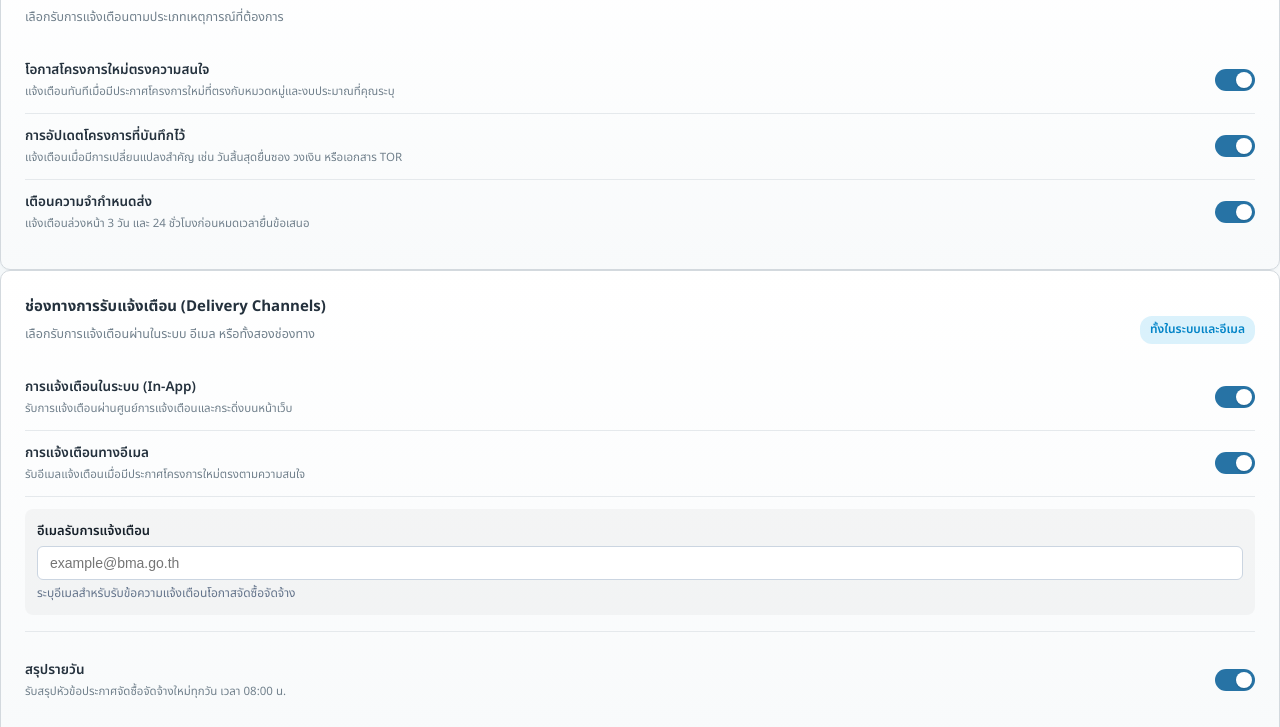
NotificationPreferencesPanel Component › renders and allows interacting with In-App toggle, custom keywords, and agencies (UC-6)
Click the checkbox with id "toggleInAppNotif".
click(1235, 397)  # box [1215,386,1255,408]
(page scrolled)
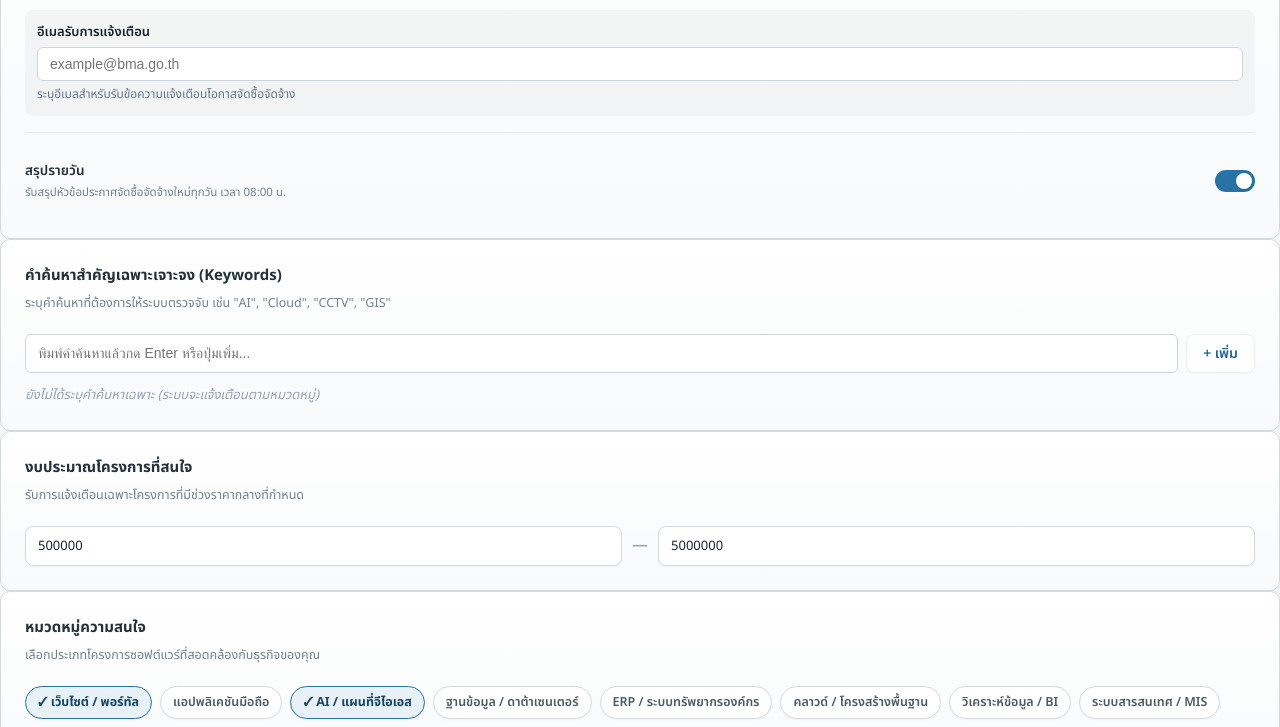
expect the button with id "addKeywordBtn" is shown: met, box [1186,334,1255,373]
Type "Smart City" into the field with id "inputKeyword".
click(602, 353); type("Smart City")  # box [25,334,1178,373]
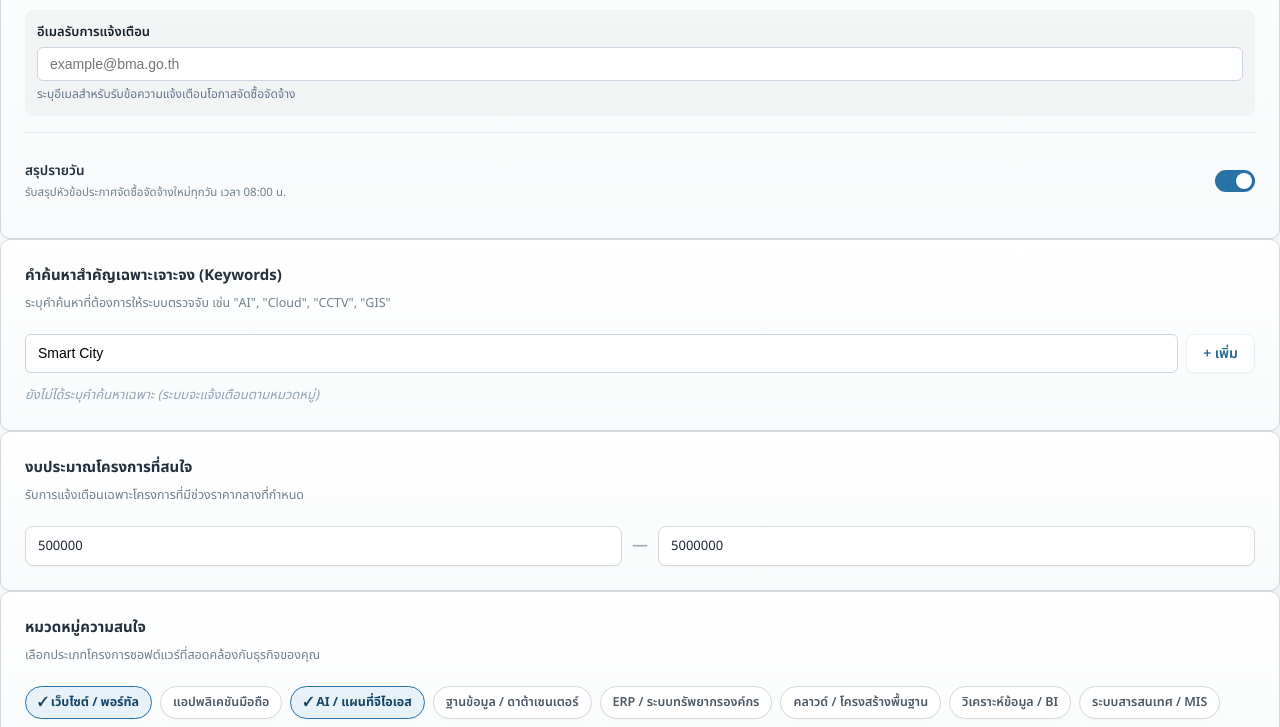
Click the button with id "addKeywordBtn".
click(1221, 353)  # box [1186,334,1255,373]
(page scrolled)
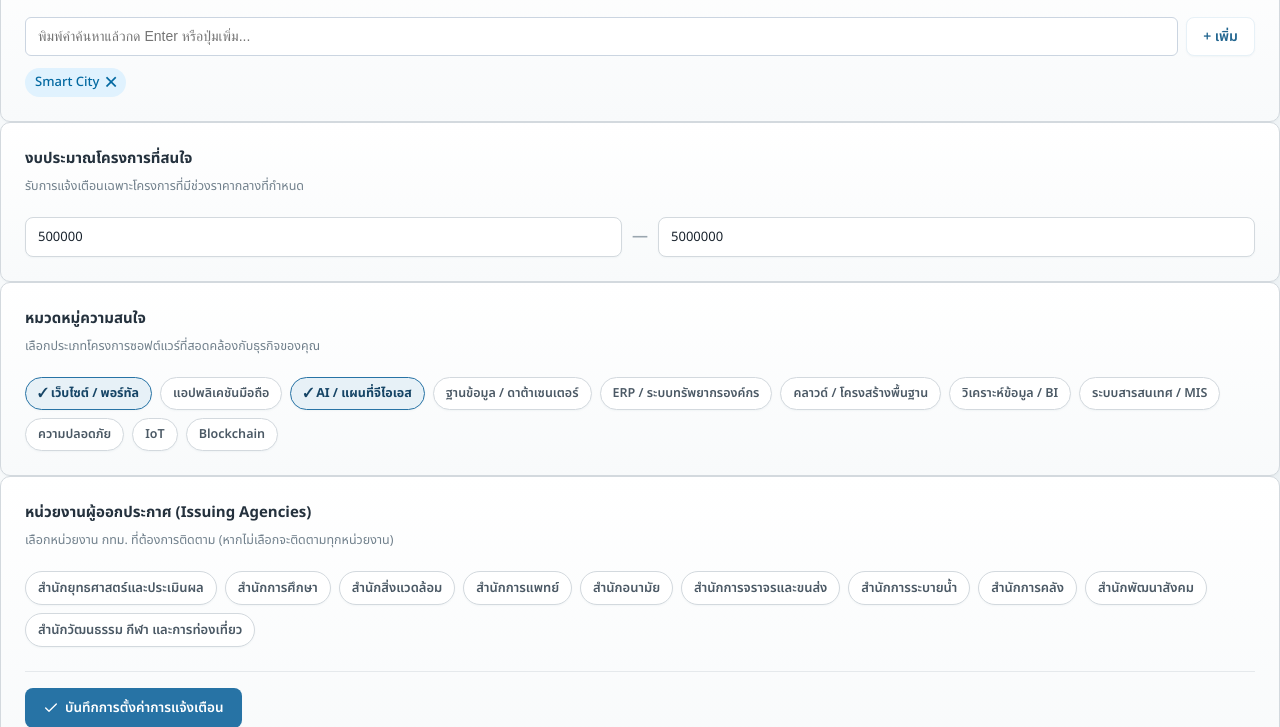
expect the text "Smart City" is shown: met, box [35,72,99,92]
Click the button "สำนักยุทธศาสตร์และประเมินผล".
click(121, 588)  # box [25,571,217,605]
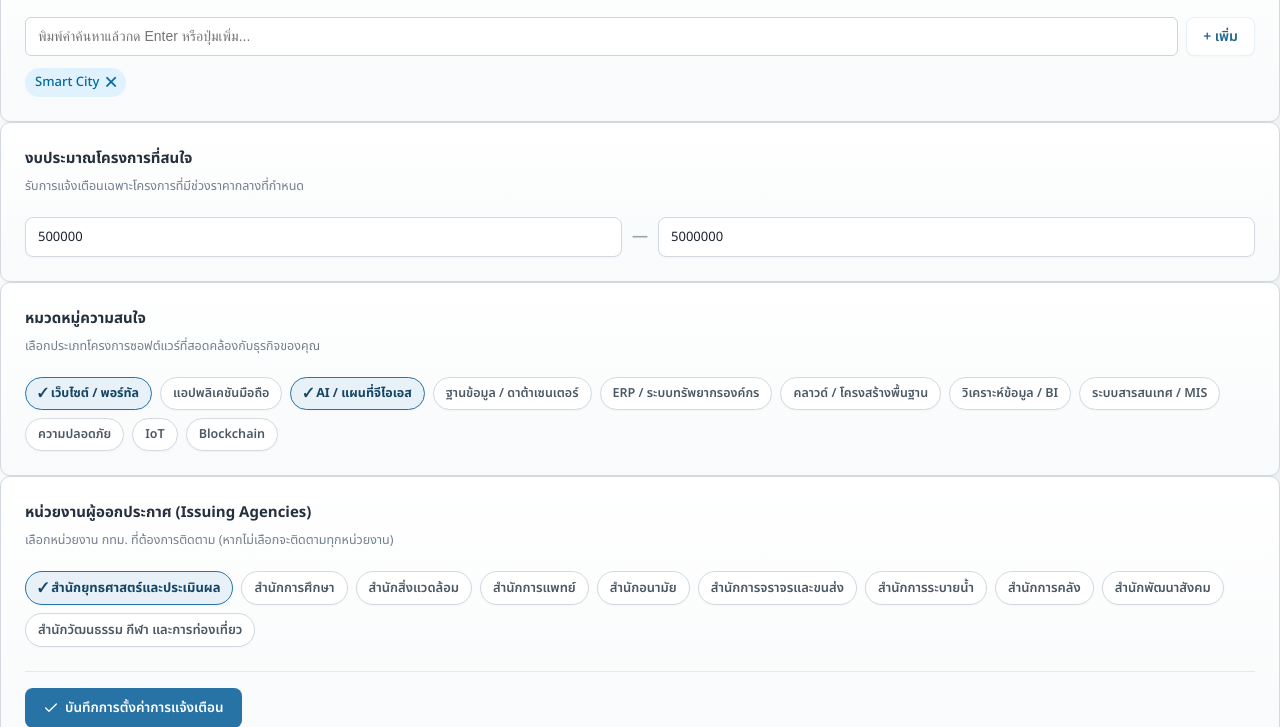
expect the button "✓ สำนักยุทธศาสตร์และประเมินผล" is shown: met, box [25,571,234,605]
